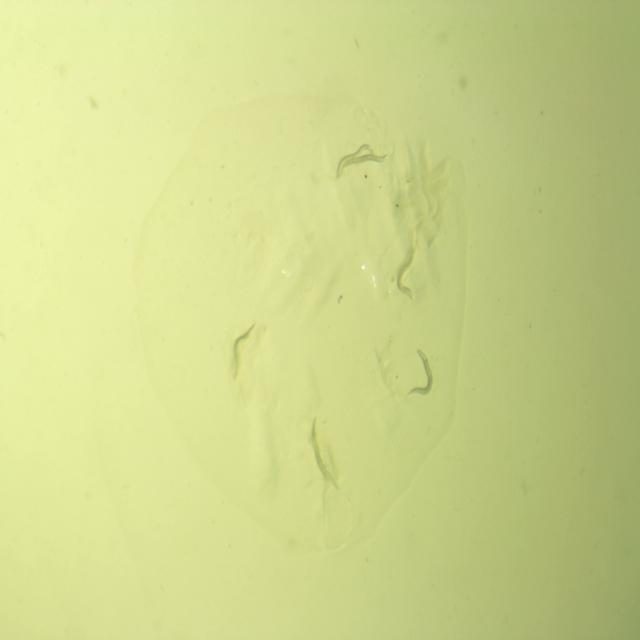worm: (309, 413, 341, 492), (231, 319, 259, 381), (405, 347, 435, 398), (336, 142, 379, 176), (339, 151, 390, 178), (396, 253, 416, 302)
